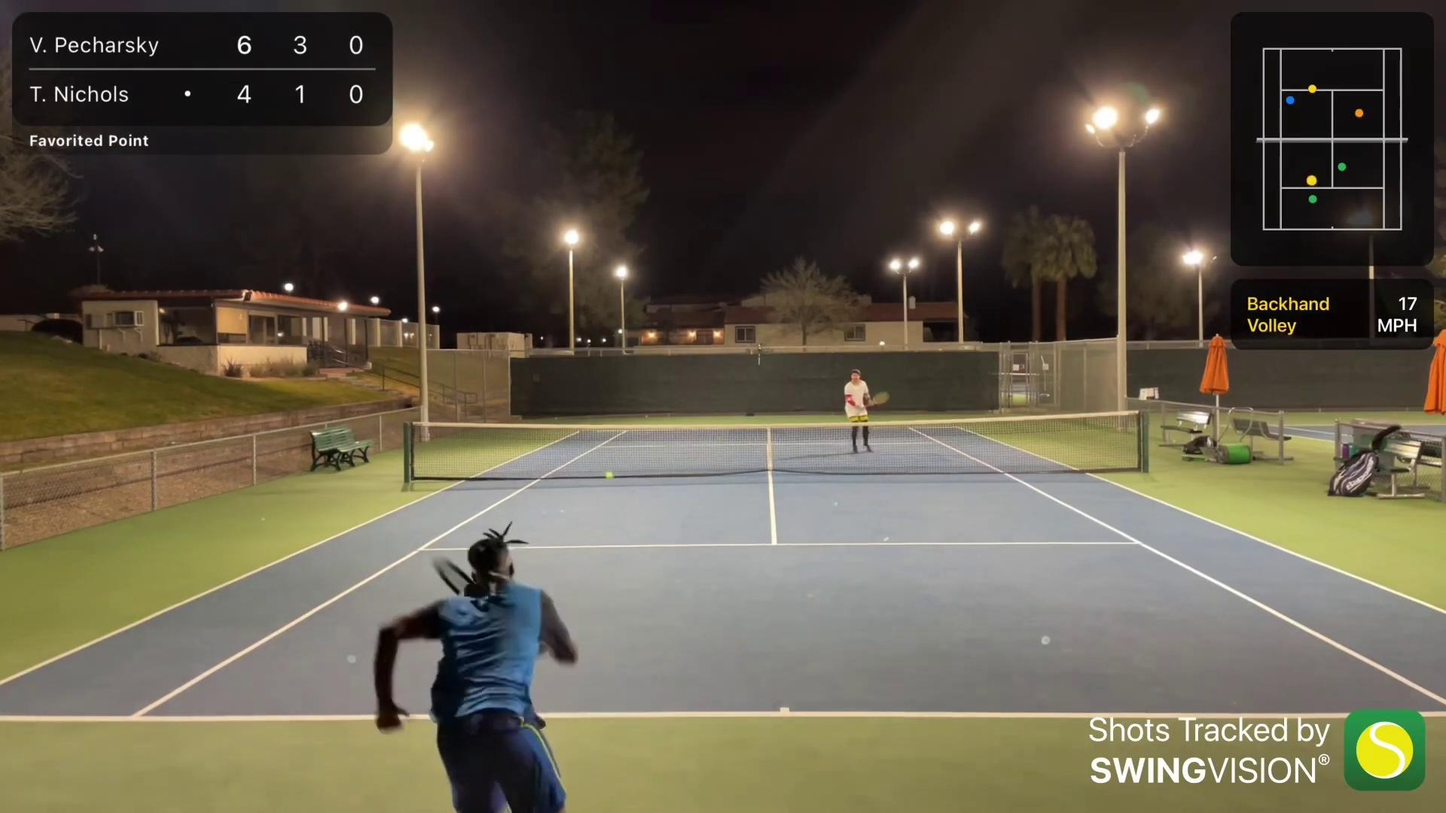ball: (604, 468, 616, 482)
